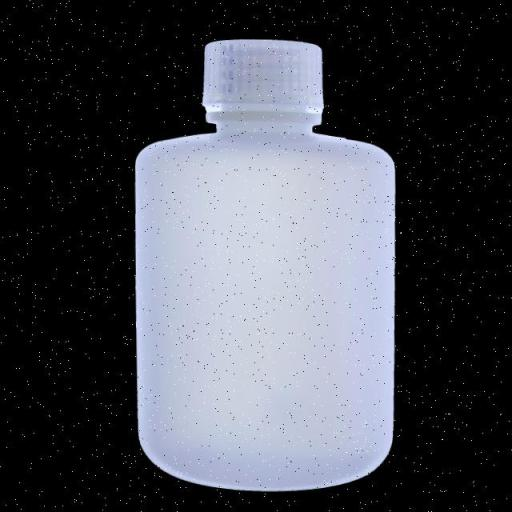plastic: (126, 33, 407, 490)
